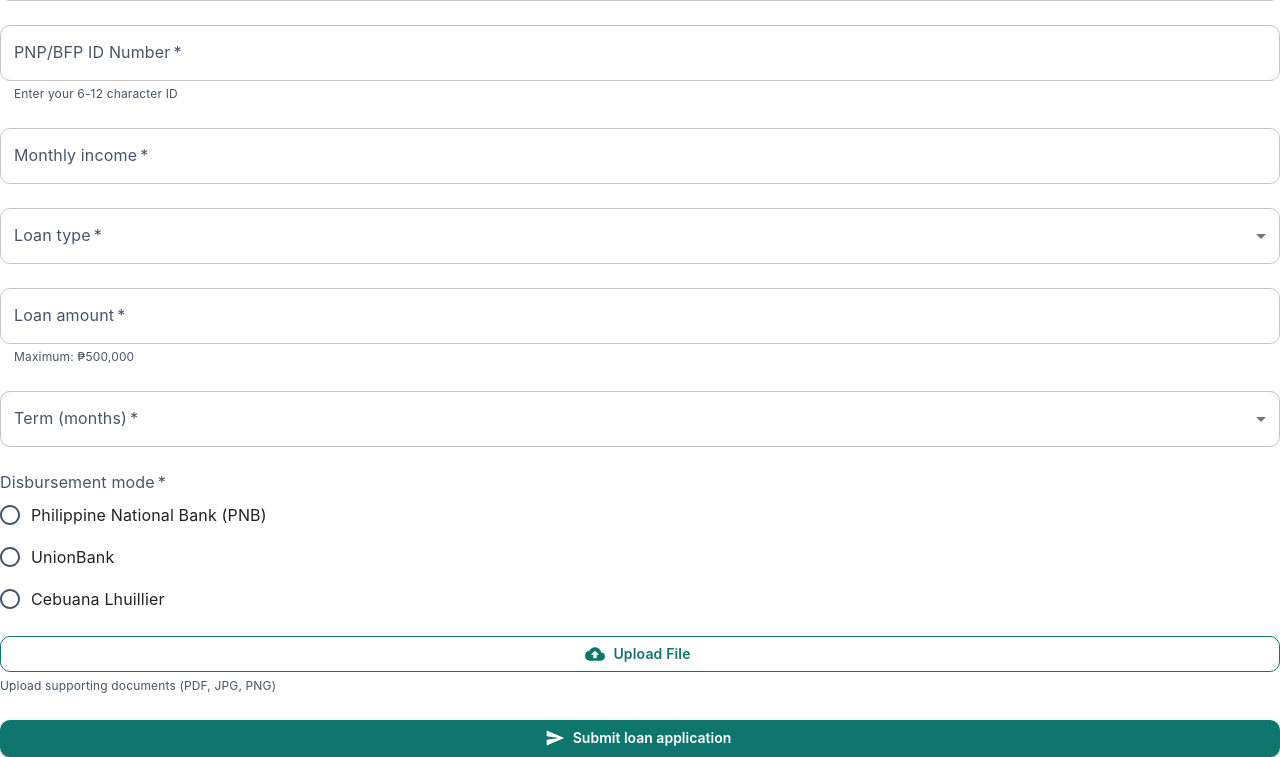
Test: <LoanForm /> › shows zod validation errors on empty submit
This screenshot has width=1280, height=757.
(page scrolled)
Click the button "Submit loan application": point(640, 738) [0,720,1279,756]
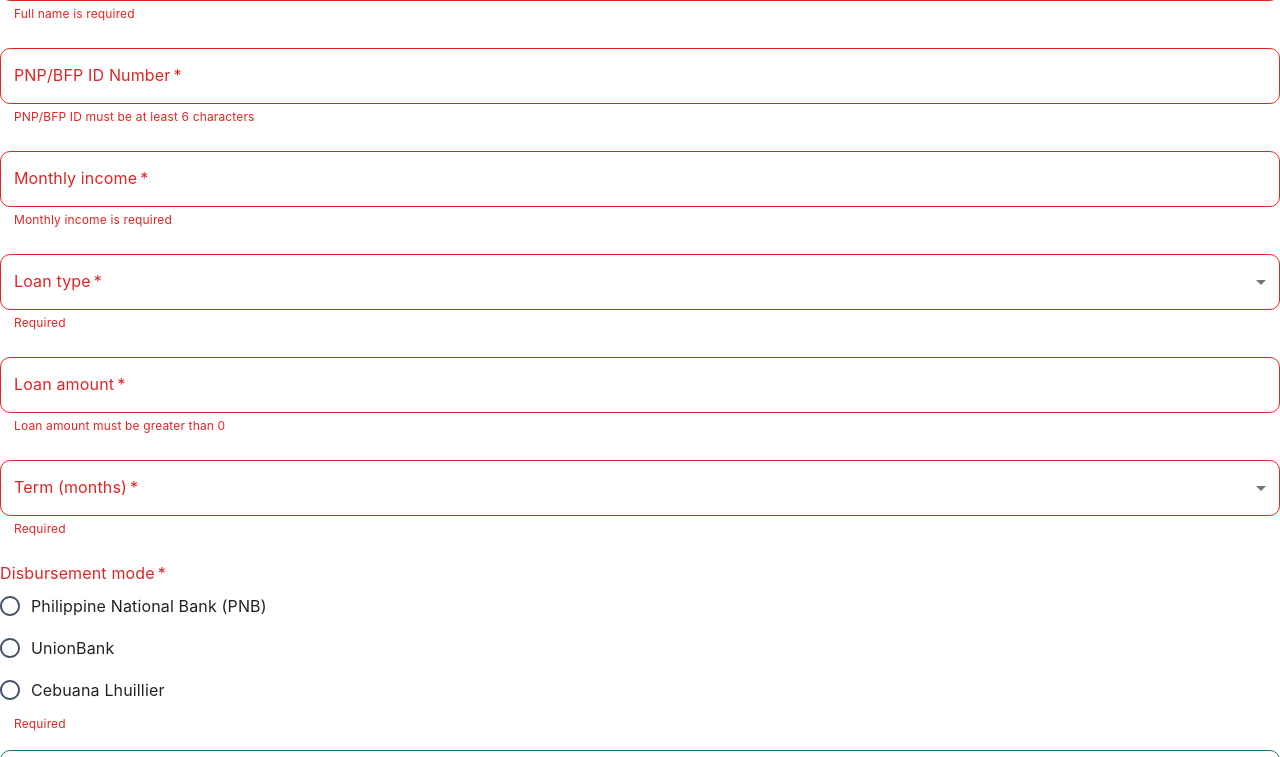
expect the text "Full name is required" is shown: met, box [14,6,135,21]
